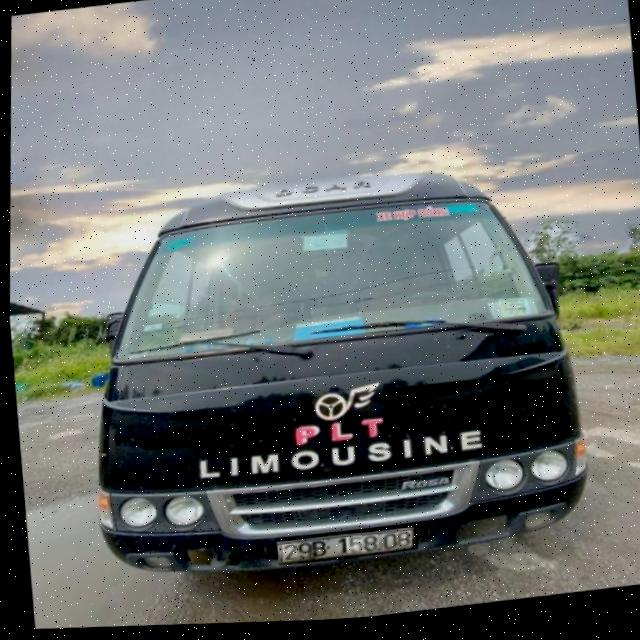car: (74, 102, 603, 593)
plate: (272, 518, 423, 575)
